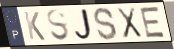E: (139, 6, 168, 40)
J: (73, 7, 95, 42)
K: (23, 11, 47, 42)
S: (92, 6, 119, 42), (45, 8, 71, 43)
X: (115, 6, 144, 41)
